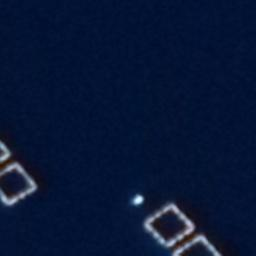square_solid: (141, 200, 197, 251), (1, 159, 38, 210)
